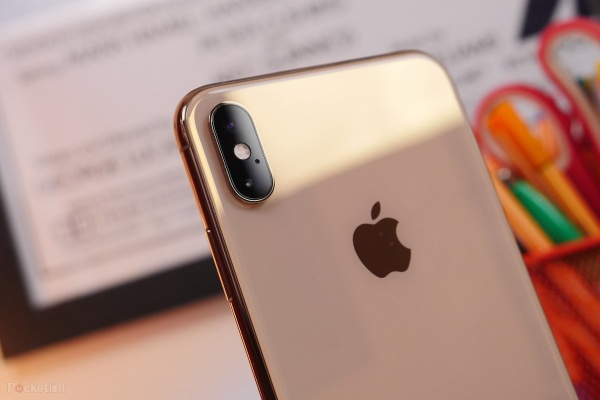apple: (342, 194, 426, 289)
